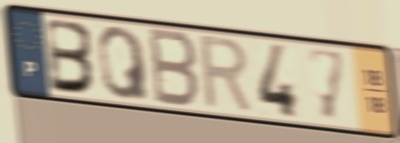4: (255, 42, 303, 121)
7: (306, 45, 349, 126)
B: (148, 25, 202, 112), (44, 15, 100, 97)
Q: (94, 25, 153, 104)
R: (197, 32, 257, 118)
